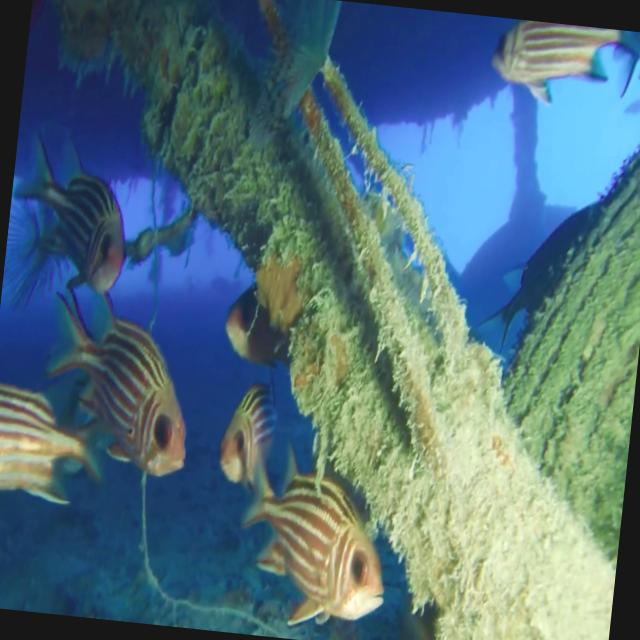Asker Baligi: (202, 374, 406, 636), (34, 282, 203, 482)
